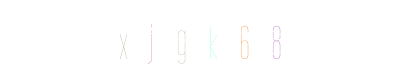6: (196, 0, 276, 80)
8: (236, 0, 316, 80)
G: (169, 0, 249, 80)
J: (139, 0, 219, 80)
K: (171, 0, 251, 80)
X: (111, 0, 191, 80)
